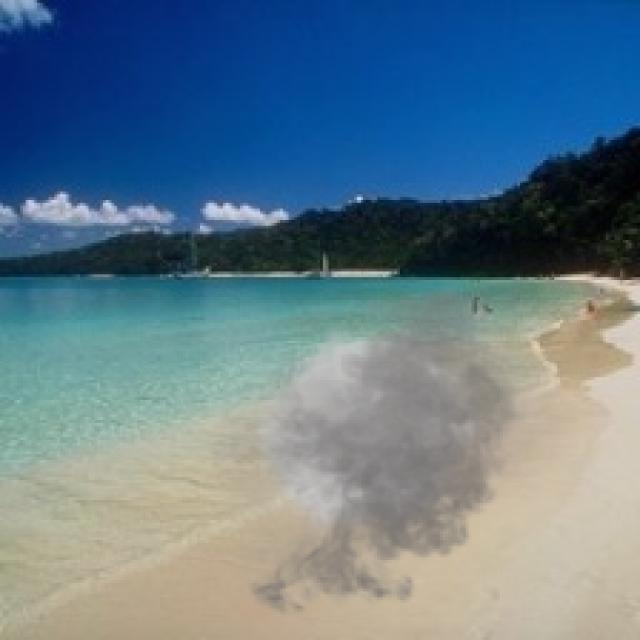Smoke: (191, 277, 543, 626)
